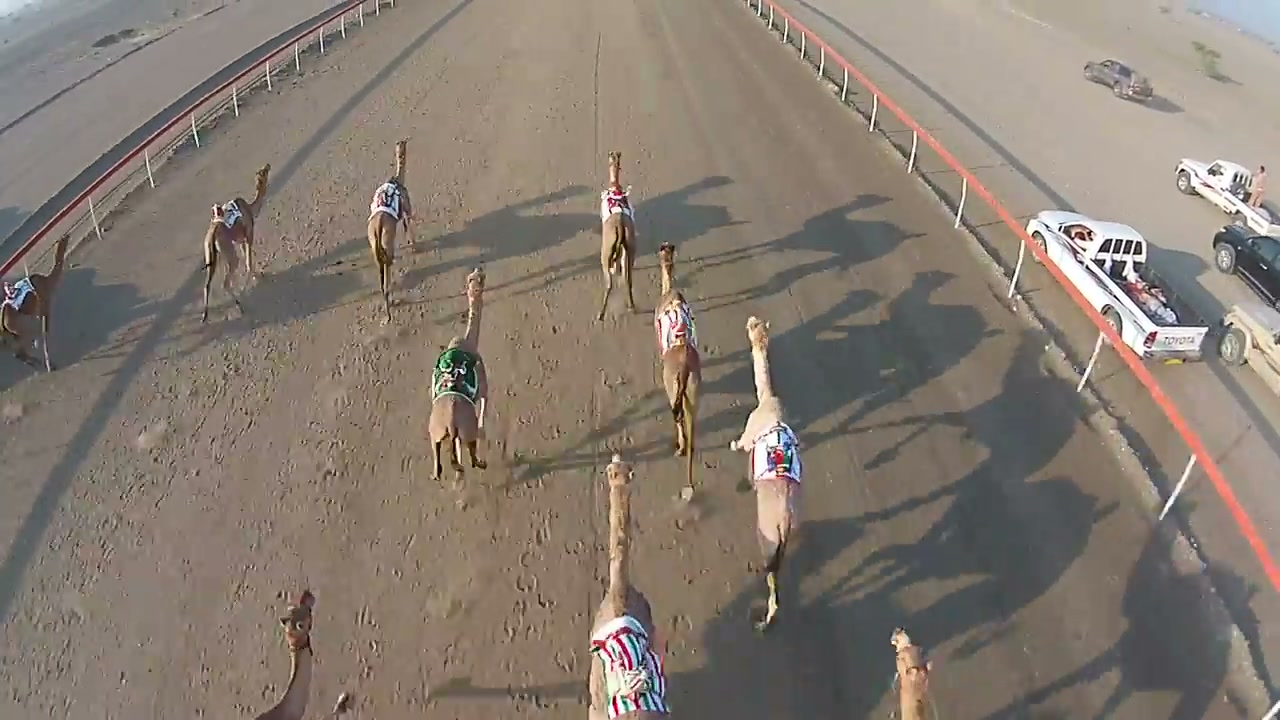animal_foot_print: (2, 297, 282, 695), (464, 304, 600, 718), (288, 298, 422, 697), (644, 480, 762, 719)
